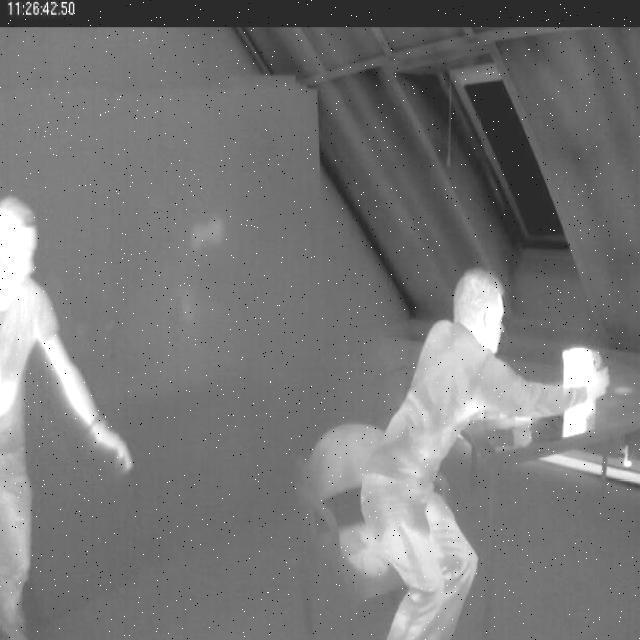person: (336, 270, 584, 640), (0, 187, 139, 640)
